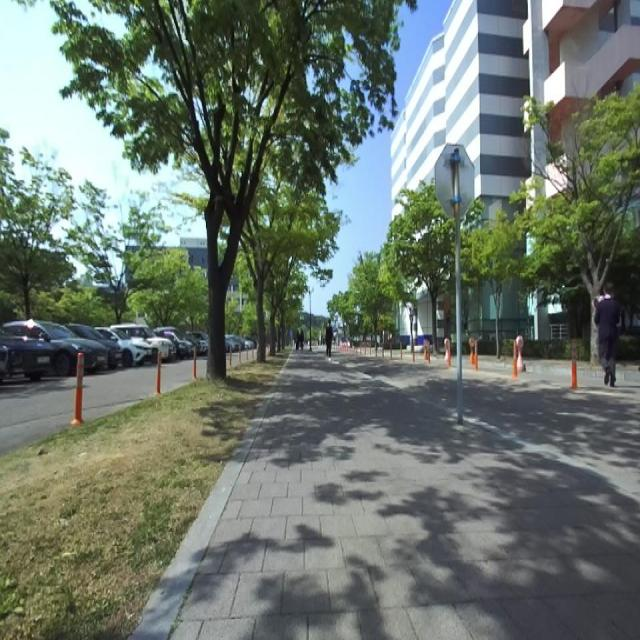sidewalk: (174, 356, 640, 640), (130, 351, 294, 639)
